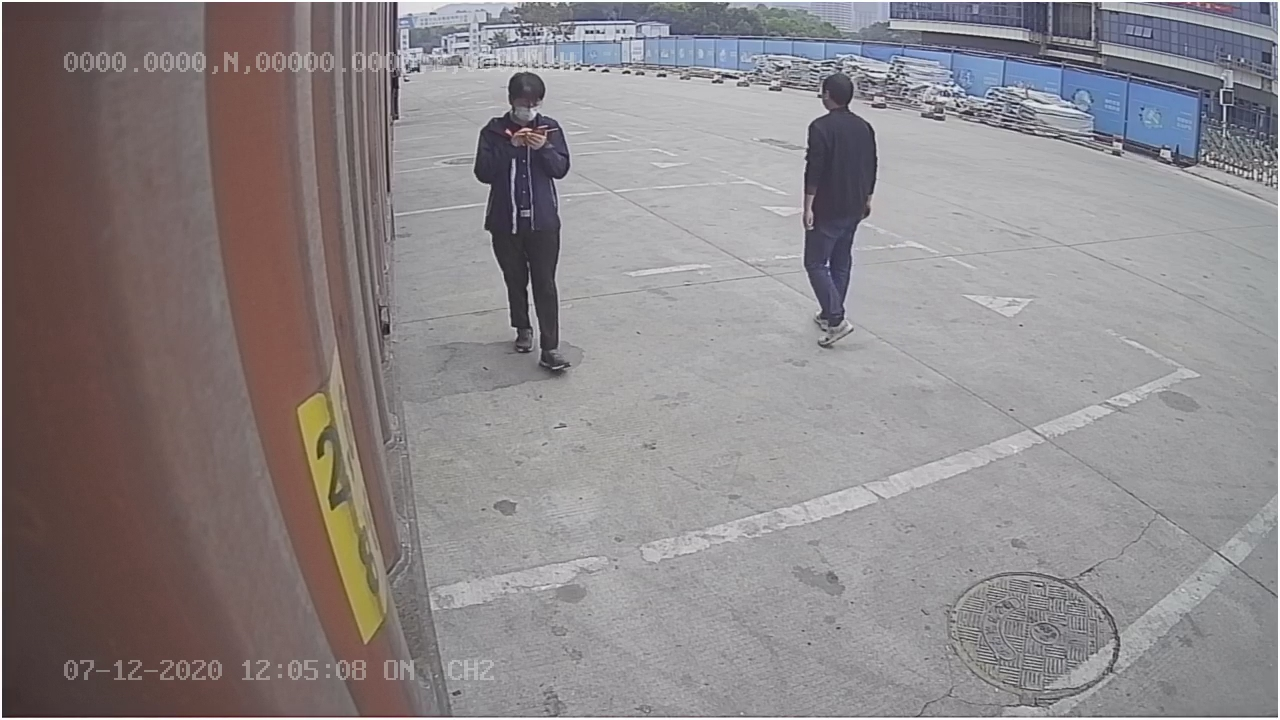person: (470, 72, 585, 379), (799, 69, 885, 352)
